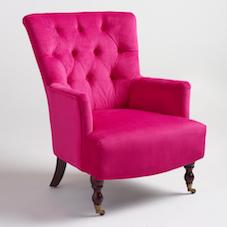chair: (4, 3, 217, 214)
